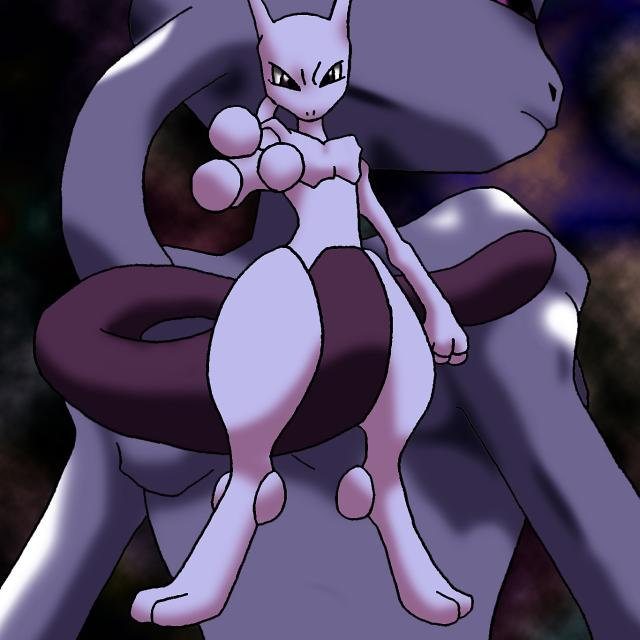Mewtwo: (205, 13, 438, 526)
